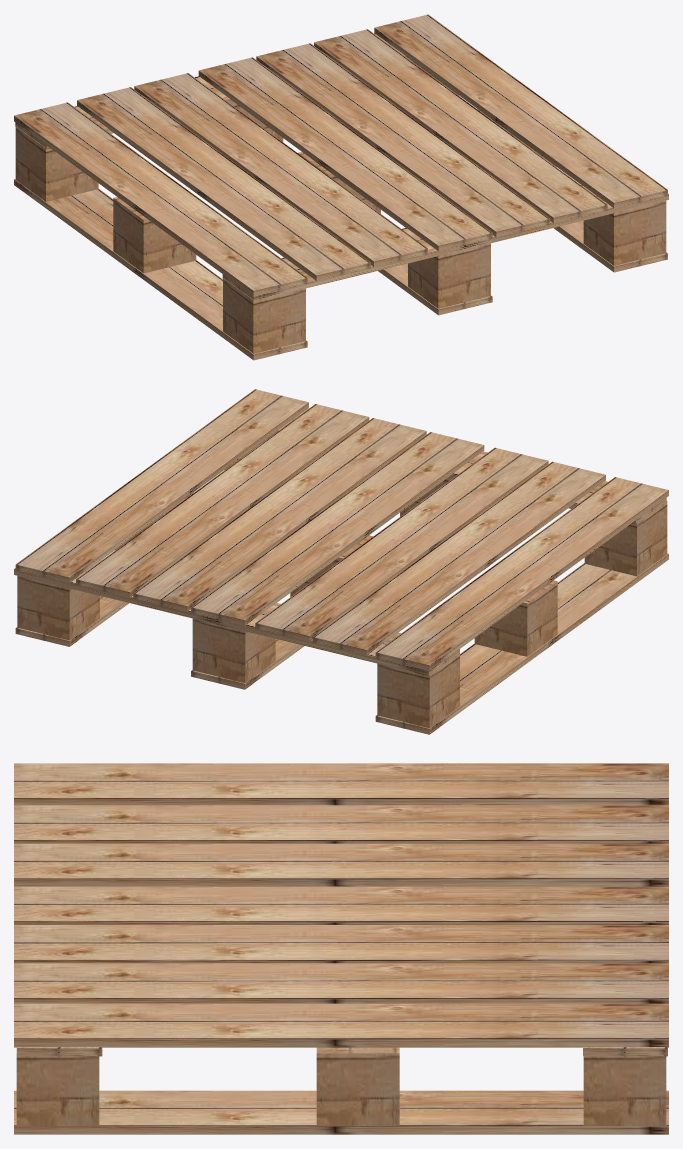
File: poddon_002.fbx
3 renders of one model, top to bottom at view 1: azimuth 30°, elevation 25°; view 2: azimuth 150°, elevation 25°; view 3: azimuth 270°, elevation 25°, orthographic. The views are drawn at different scales.
Parts seen in each view (by area): view 1: doska.005, doska.003, doska.008, doska.002, doska.011, doska.010, doska.009, doska.006, Cube.005, Cube, Cube.003, Cube.006 (+5 smaller); view 2: doska.005, doska.002, doska.003, doska.008, doska.011, doska.009, doska.010, doska.006, Cube.004, Cube.002, Cube.001, Cube.006 (+5 smaller); view 3: doska.002, doska.009, doska.005, doska.010, doska.003, doska.008, doska.011, doska, Cube.008, Cube, Cube.001, doska.001 (+1 smaller).
Part boxes in pixels (<box>): doska.005: <box>14,102,307,296</box>; doska.003: <box>198,57,492,251</box>; doska.008: <box>77,87,370,281</box>; doska.002: <box>374,14,667,208</box>; doska.011: <box>256,43,550,237</box>; doska.010: <box>314,29,607,223</box>; doska.009: <box>134,73,427,267</box>; doska.006: <box>14,179,307,360</box>; Cube.005: <box>223,278,305,353</box>; Cube: <box>583,199,666,265</box>; Cube.003: <box>408,242,490,308</box>; Cube.006: <box>113,197,196,273</box>; doska.005: <box>375,477,668,670</box>; doska.002: <box>15,389,308,583</box>; doska.003: <box>191,432,484,625</box>; doska.008: <box>312,461,605,655</box>; doska.011: <box>133,418,426,611</box>; doska.009: <box>255,447,548,641</box>; doska.010: <box>76,404,369,597</box>; doska.006: <box>375,553,668,734</box>; Cube.004: <box>377,652,459,728</box>; Cube.002: <box>192,618,275,682</box>; Cube.001: <box>17,576,99,640</box>; Cube.006: <box>474,580,557,656</box>; doska.002: <box>14,1003,668,1047</box>; doska.009: <box>14,843,668,886</box>; doska.005: <box>14,763,668,805</box>; doska.010: <box>14,963,668,1003</box>; doska.003: <box>14,886,668,924</box>; doska.008: <box>14,805,668,843</box>; doska.011: <box>14,925,668,963</box>; doska: <box>14,1090,668,1134</box>; Cube.008: <box>316,1047,399,1125</box>; Cube: <box>16,1048,99,1125</box>; Cube.001: <box>583,1056,666,1125</box>; doska.001: <box>17,1047,102,1056</box>.
Bounding box in the file's own units: 301 × 47.97 × 300.
